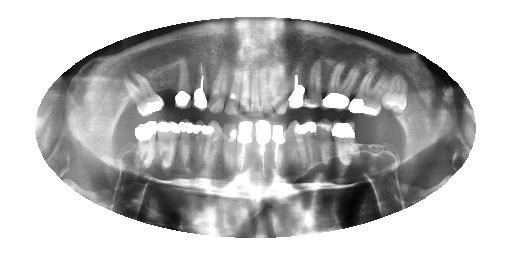i10healthy: (218, 120, 240, 176)
i11healthy: (204, 118, 223, 174)
i12healthy: (191, 114, 206, 175)
i13healthy: (175, 117, 191, 179)
i14healthy: (153, 121, 181, 170)
i15healthy: (132, 118, 157, 169)
i16healthy: (113, 131, 138, 167)
i1loss: (381, 128, 406, 166)
i2loss: (355, 124, 381, 166)
i3healthy: (330, 117, 358, 170)
i4healthy: (313, 118, 335, 169)
i5healthy: (300, 116, 321, 169)
i6healthy: (285, 115, 306, 171)
i7healthy: (268, 116, 287, 174)
i8healthy: (251, 114, 271, 180)
i9healthy: (235, 117, 253, 177)
u10healthy: (220, 58, 243, 117)
u11healthy: (204, 53, 229, 117)
u12healthy: (190, 50, 210, 113)
u13healthy: (171, 55, 196, 106)
u14loss: (156, 61, 177, 109)
u15healthy: (115, 67, 165, 118)
u16loss: (107, 83, 139, 125)
u1healthy: (381, 70, 412, 114)
u2healthy: (346, 65, 390, 118)
u3healthy: (321, 56, 365, 112)
u4healthy: (302, 53, 327, 110)
u5healthy: (286, 52, 307, 113)
u6healthy: (266, 61, 292, 115)
u7healthy: (258, 60, 275, 118)
u8healthy: (248, 61, 265, 116)
u9healthy: (236, 60, 251, 116)
